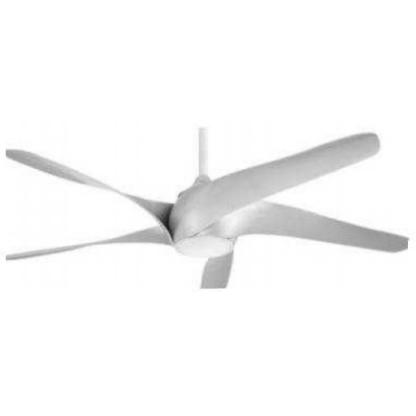ceiling-fan: (6, 121, 408, 290)
